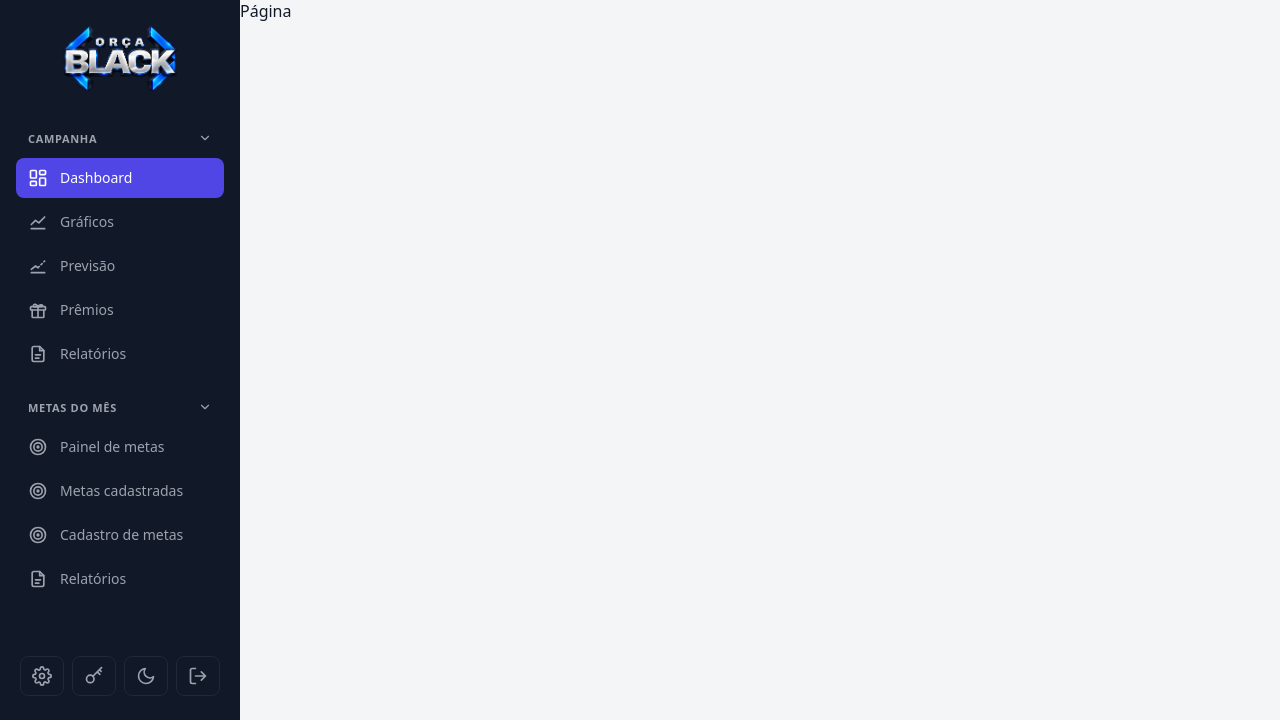
Test: AdminLayout: sair e trocar senha › Trocar senha abre o diálogo, e Cancelar fecha
Click the button named "Trocar senha". click: (94, 676)
box: [72, 656, 116, 696]
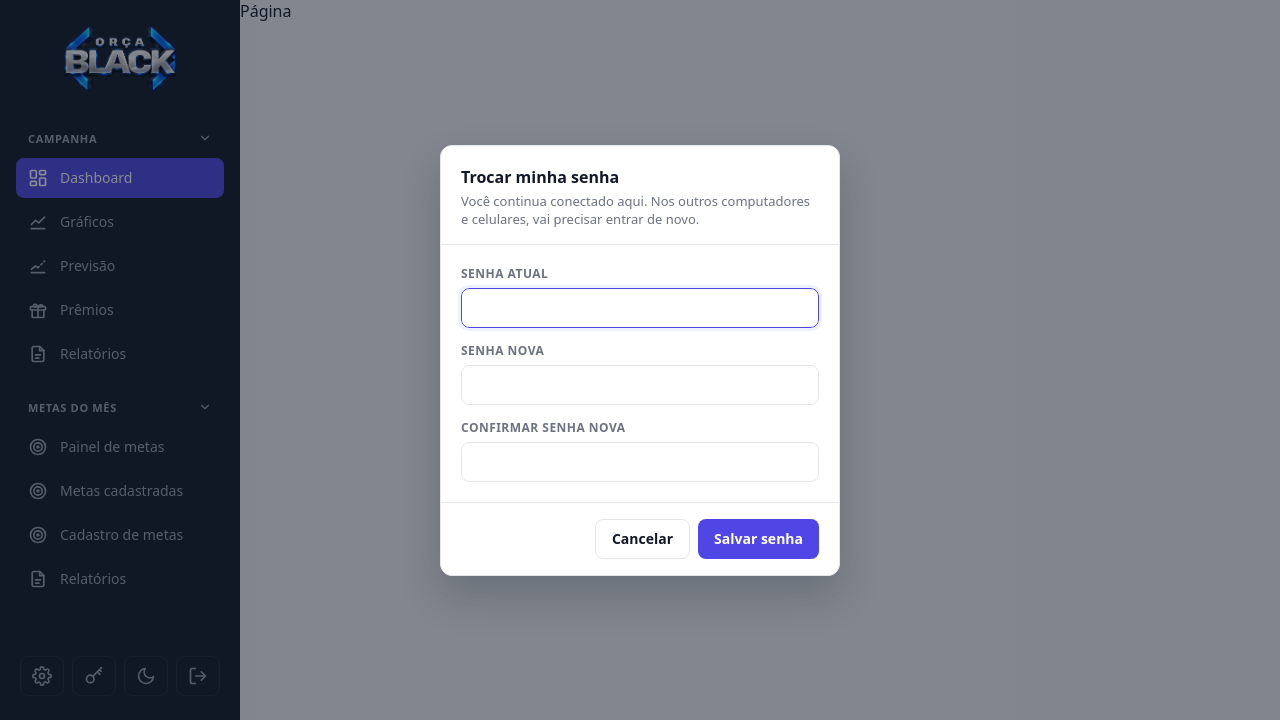
Check: the dialog "Trocar minha senha" is shown, box [440, 144, 840, 576]
Click the button "Cancelar". click: (642, 538)
box: [595, 518, 690, 558]
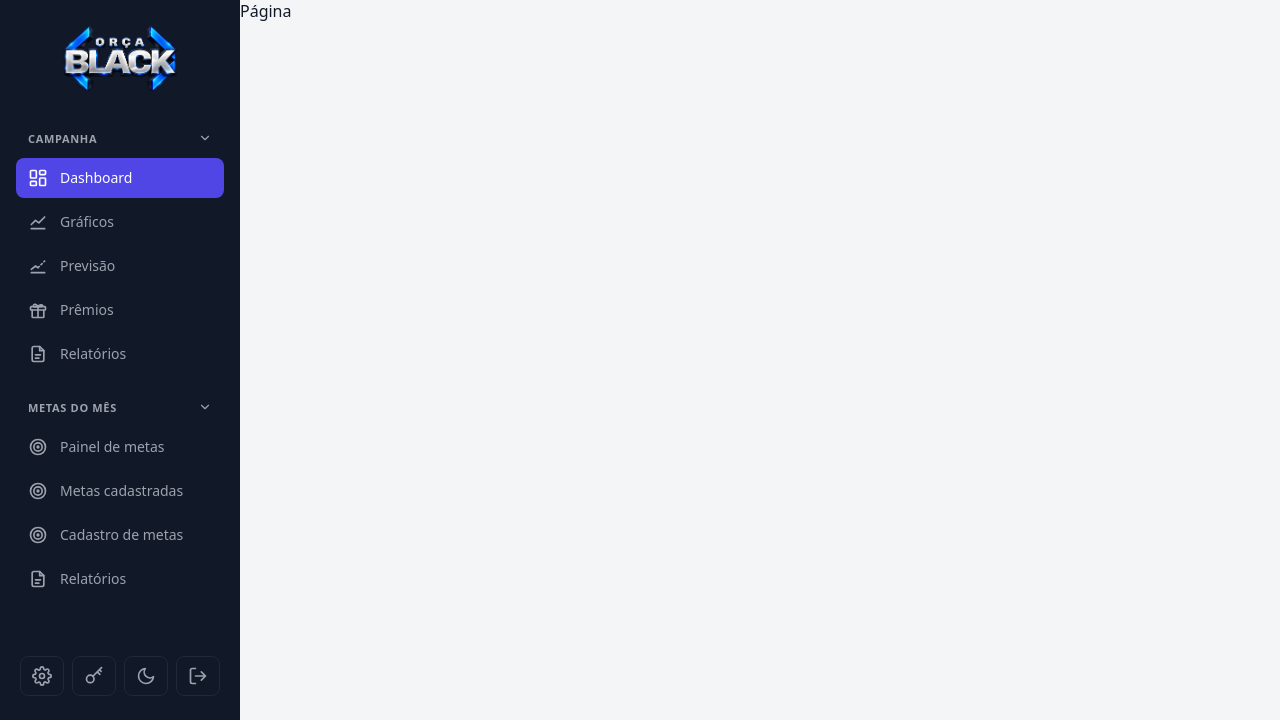
Check: the dialog is gone
